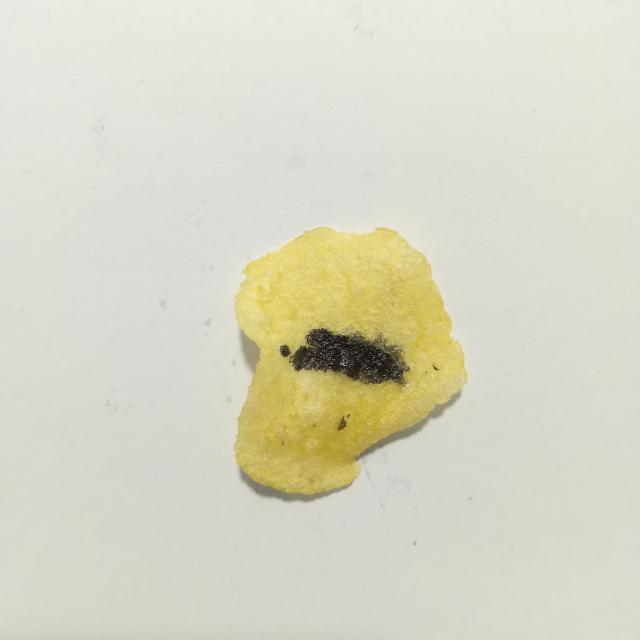chip: (235, 228, 466, 494)
damaged: (290, 328, 409, 384), (337, 416, 347, 431), (279, 345, 291, 357), (346, 414, 350, 418)
